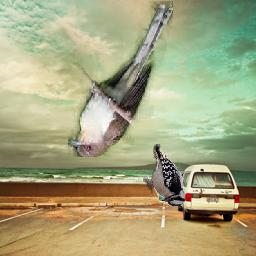Cuckoo: (69, 1, 174, 157)
Woodpecker: (143, 144, 185, 206)
